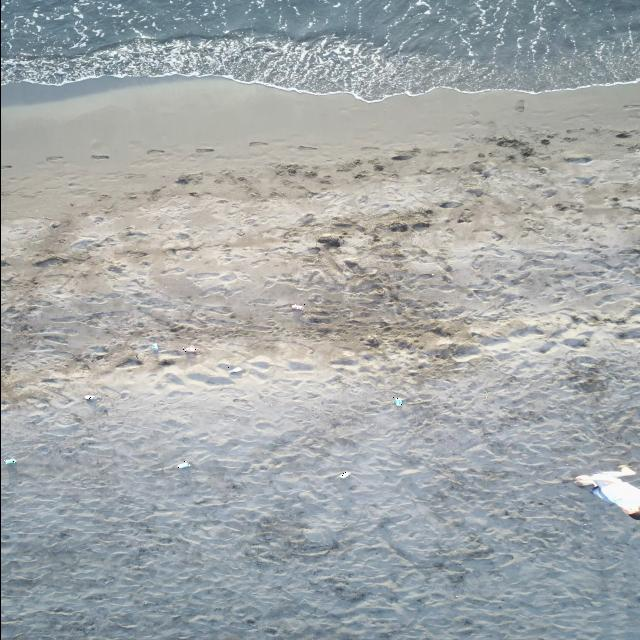Garbage: (575, 464, 639, 519), (316, 233, 340, 247), (364, 335, 379, 347), (228, 366, 243, 373), (176, 460, 191, 467), (183, 344, 196, 352), (393, 396, 403, 406), (4, 457, 16, 464), (292, 303, 303, 310), (83, 395, 96, 400), (151, 343, 158, 352), (340, 471, 350, 477)
